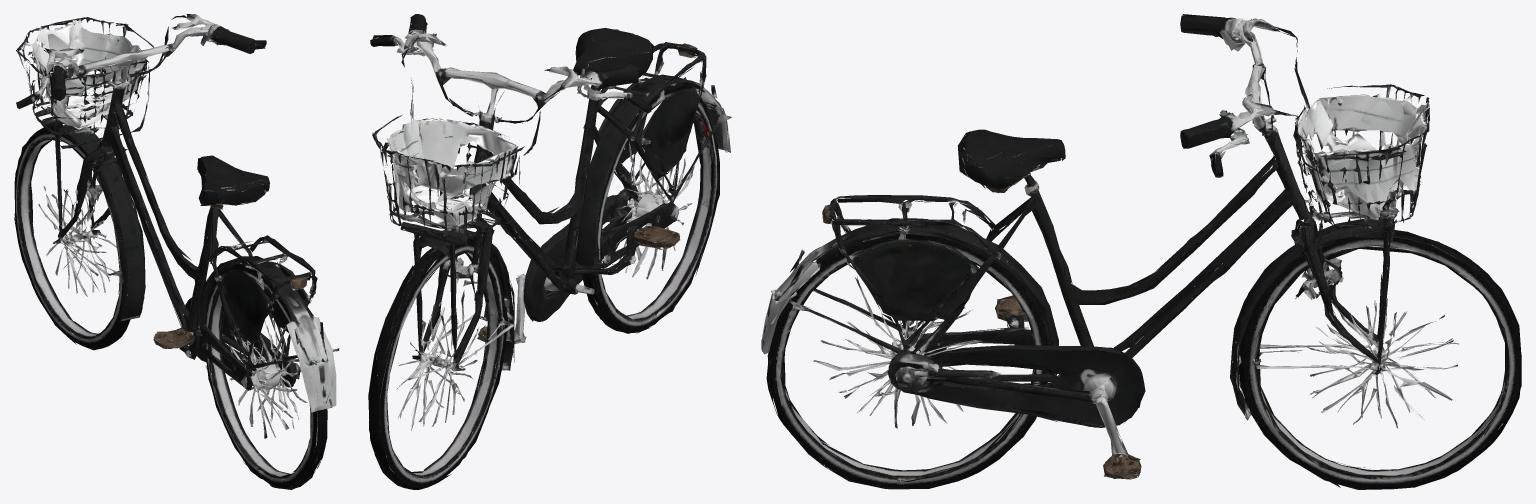
Rendered from bicycle.glb.
3 views of the same model, side by side, from view 1: azimuth 30°, elevation 25°; view 2: azimuth 150°, elevation 25°; view 3: azimuth 270°, elevation 25° (orthographic). The views are drawn at different scales.
Parts seen in each view (by area): view 1: Mesh_0; view 2: Mesh_0; view 3: Mesh_0.
Boxes of the visible parts, x1,y1,x2,y2 form: Mesh_0: (14, 14, 339, 489); Mesh_0: (368, 14, 731, 489); Mesh_0: (761, 14, 1521, 489).
Size of the model in its own units: 0.4709 by 0.6223 by 1.
1 material, 1 textured.
